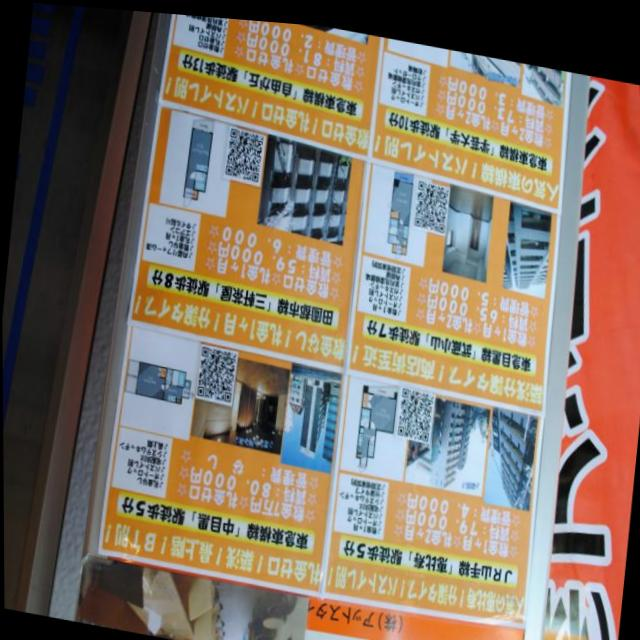qrcode: (196, 343, 235, 398), (225, 125, 263, 177), (413, 173, 449, 226), (397, 382, 433, 435)
